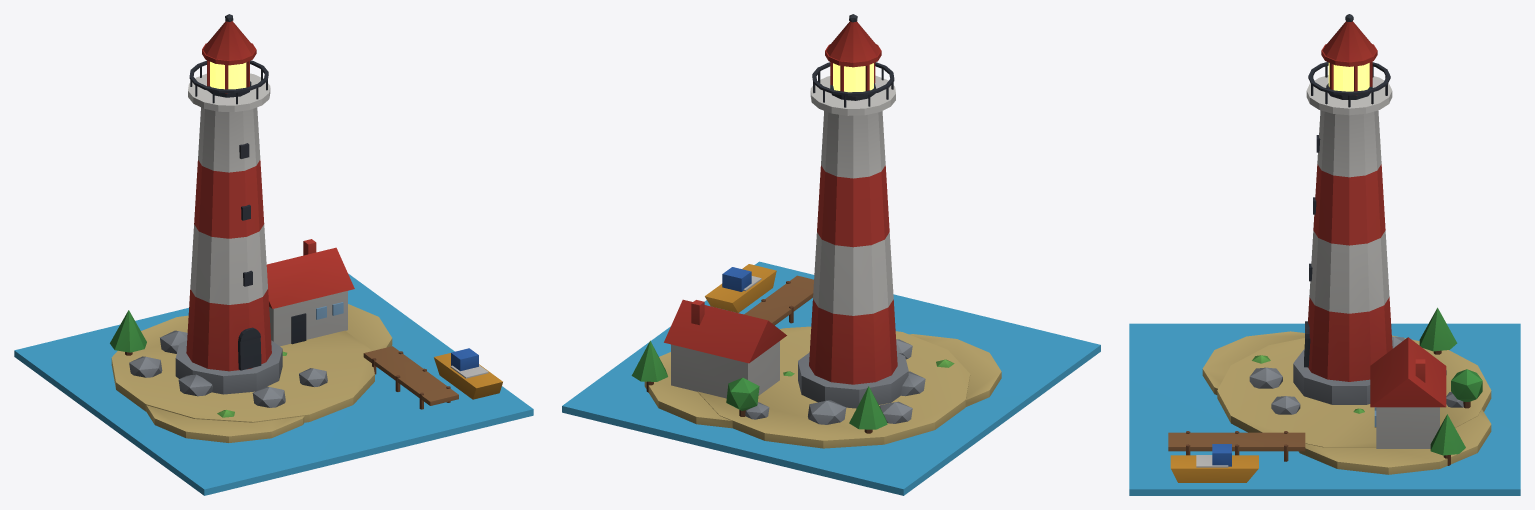
The model's file is bl_lighthouse.glb.
3 renders of one model, left to right at view 1: azimuth 30°, elevation 25°; view 2: azimuth 150°, elevation 25°; view 3: azimuth 270°, elevation 25°, orthographic. The views are drawn at different scales.
Visible parts, largest first — view 1: lighthouse; view 2: lighthouse; view 3: lighthouse.
Boxes of the visible parts, x1,y1,x2,y2 form: lighthouse: [14, 14, 533, 495]; lighthouse: [562, 14, 1100, 495]; lighthouse: [1129, 14, 1520, 495].
Bounding box in the file's own units: 16 × 17.25 × 16.
